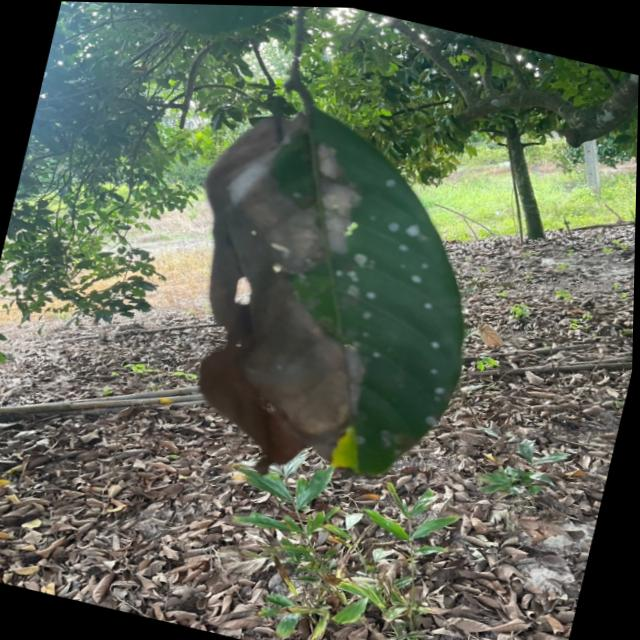Algal Leaf Spot: (250, 122, 542, 385)
